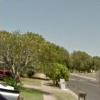Tree: (3, 23, 66, 74)
